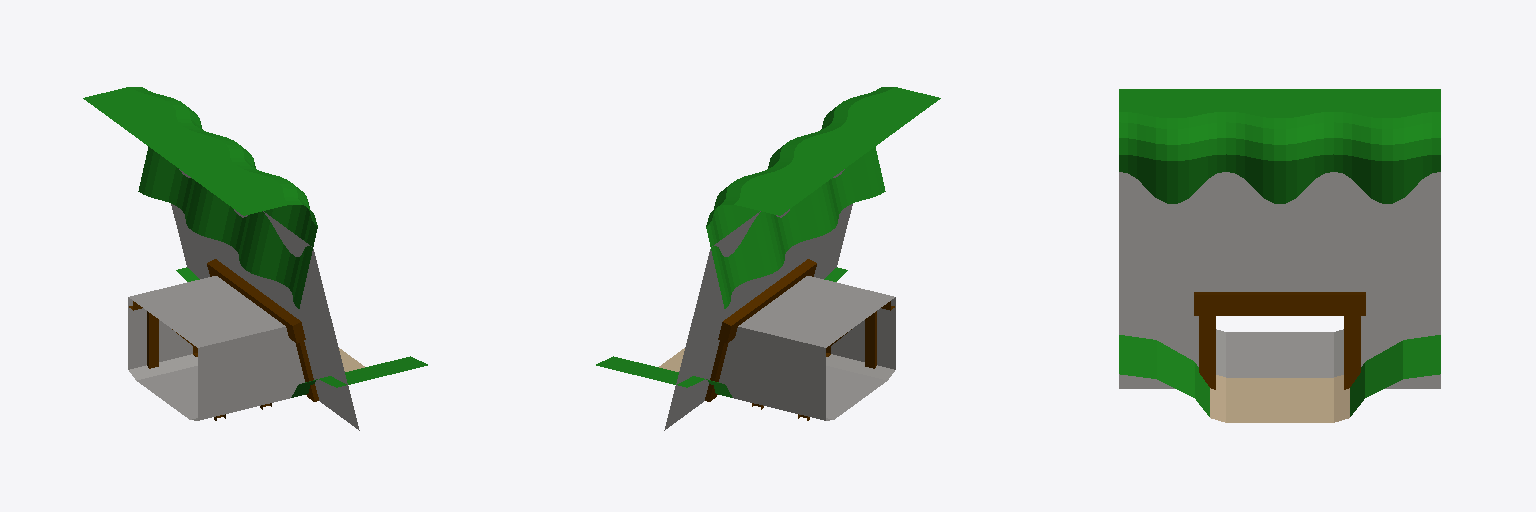
The model's file is Track_Mine_Entrance_2x3.obj.
3 renders of one model, left to right at view 1: azimuth 30°, elevation 25°; view 2: azimuth 150°, elevation 25°; view 3: azimuth 270°, elevation 25°, orthographic.
Visible parts, largest first — view 1: object19, object16, object13, object6, object2, object8; view 2: object19, object16, object13, object6, object3, object9; view 3: object13, object19, object16, object1, object6, object2, object3, object15, object21.
Boxes of the visible parts, x1,y1,x2,y2 form: object19: [83, 87, 317, 308]; object16: [128, 240, 359, 430]; object13: [129, 169, 340, 356]; object6: [207, 259, 305, 343]; object2: [291, 356, 427, 397]; object8: [147, 311, 158, 368]; object19: [706, 87, 940, 308]; object16: [664, 240, 895, 430]; object13: [683, 169, 894, 356]; object6: [718, 259, 816, 343]; object3: [596, 356, 732, 397]; object9: [865, 311, 876, 368]; object13: [1119, 172, 1440, 301]; object19: [1119, 89, 1440, 203]; object16: [1119, 302, 1440, 388]; object1: [1226, 378, 1333, 422]; object6: [1194, 292, 1365, 315]; object2: [1119, 335, 1225, 422]; object3: [1334, 335, 1440, 422]; object15: [1344, 316, 1360, 389]; object21: [1199, 316, 1215, 389].
Bounding box in the file's own units: 2 × 2.5 × 3.